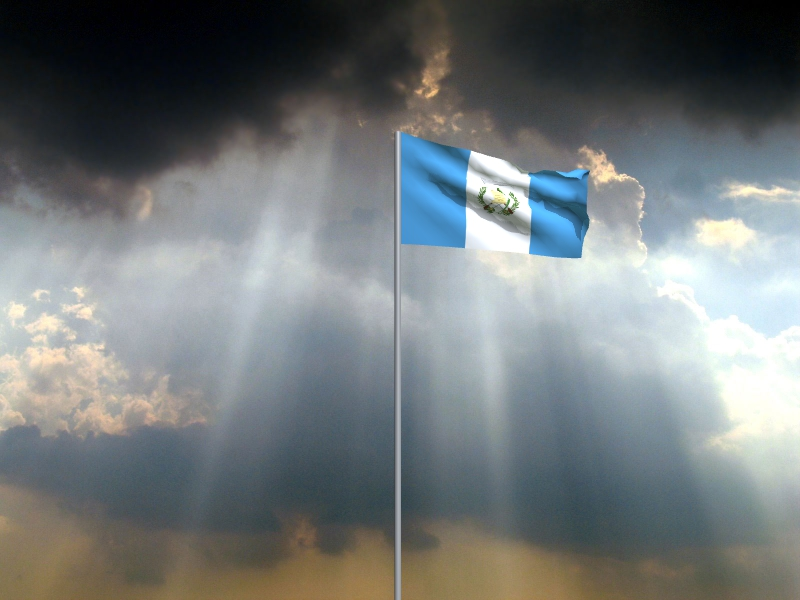gt: (401, 133, 591, 260)
